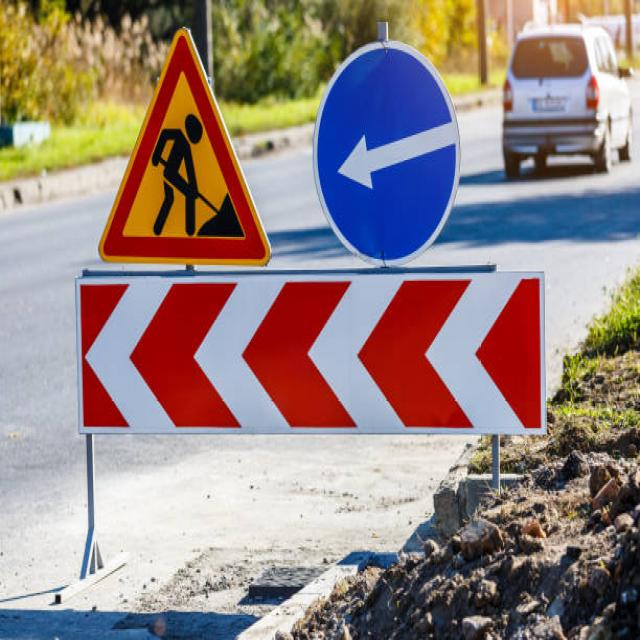road_work: (100, 26, 275, 272)
